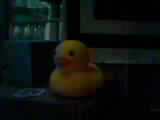duck: (49, 33, 107, 98)
